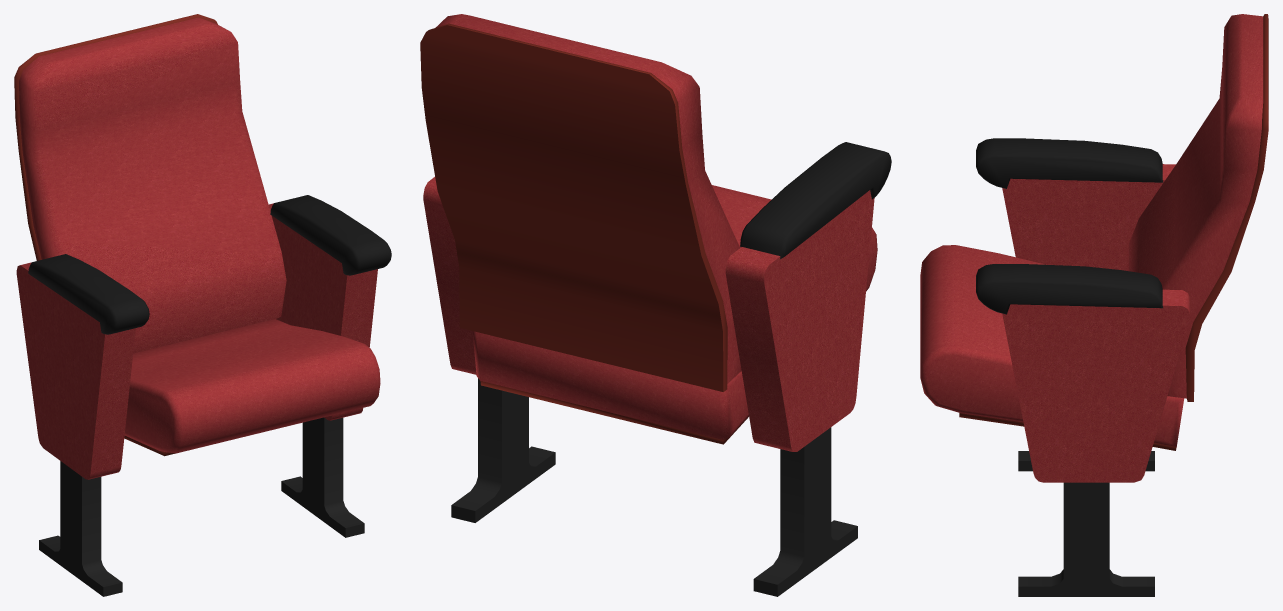
The model's file is sweethome3d-scopia-folding-armchair.glb.
3 views of the same model, side by side, from view 1: azimuth 30°, elevation 25°; view 2: azimuth 150°, elevation 25°; view 3: azimuth 270°, elevation 25° (orthographic). The views are drawn at different scales.
Parts seen in each view (by area): view 1: BackCushion, sweethome3d_opening_on_hinge_1_SeatCushion, RightArmCushion, LeftArmCushion, RightLeg, LeftLeg, LeftPlasticArm, RightPlasticArm, BackPlastic; view 2: BackPlastic, RightArmCushion, sweethome3d_opening_on_hinge_1_SeatCushion, BackCushion, RightPlasticArm, RightLeg, LeftLeg, LeftArmCushion, sweethome3d_opening_on_hinge_1_SeatPlastic; view 3: LeftArmCushion, BackCushion, sweethome3d_opening_on_hinge_1_SeatCushion, RightArmCushion, RightPlasticArm, LeftPlasticArm, LeftLeg, BackPlastic.
Boxes of the visible parts, bbox=[...] form: BackCushion: bbox=[19, 17, 286, 353]; sweethome3d_opening_on_hinge_1_SeatCushion: bbox=[124, 319, 380, 453]; RightArmCushion: bbox=[16, 262, 135, 479]; LeftArmCushion: bbox=[268, 203, 377, 420]; RightLeg: bbox=[39, 461, 122, 596]; LeftLeg: bbox=[281, 417, 364, 537]; LeftPlasticArm: bbox=[270, 195, 391, 275]; RightPlasticArm: bbox=[28, 254, 149, 334]; BackPlastic: bbox=[14, 14, 217, 260]; BackPlastic: bbox=[420, 23, 727, 391]; RightArmCushion: bbox=[725, 190, 874, 451]; sweethome3d_opening_on_hinge_1_SeatCushion: bbox=[472, 185, 877, 439]; BackCushion: bbox=[435, 14, 741, 383]; RightPlasticArm: bbox=[740, 142, 891, 259]; RightLeg: bbox=[753, 427, 857, 596]; LeftLeg: bbox=[451, 378, 555, 522]; LeftArmCushion: bbox=[423, 177, 476, 374]; sweethome3d_opening_on_hinge_1_SeatPlastic: bbox=[480, 381, 748, 444]; LeftArmCushion: bbox=[1002, 289, 1189, 482]; BackCushion: bbox=[1128, 14, 1263, 398]; sweethome3d_opening_on_hinge_1_SeatCushion: bbox=[920, 245, 1184, 446]; RightArmCushion: bbox=[1002, 164, 1175, 270]; RightPlasticArm: bbox=[976, 138, 1163, 188]; LeftPlasticArm: bbox=[976, 264, 1162, 314]; LeftLeg: bbox=[1018, 482, 1154, 596]; BackPlastic: bbox=[1185, 14, 1268, 401].
Bounding box in the file's own units: 59.23 × 90.74 × 60.58.
13 materials, 4 textured.
